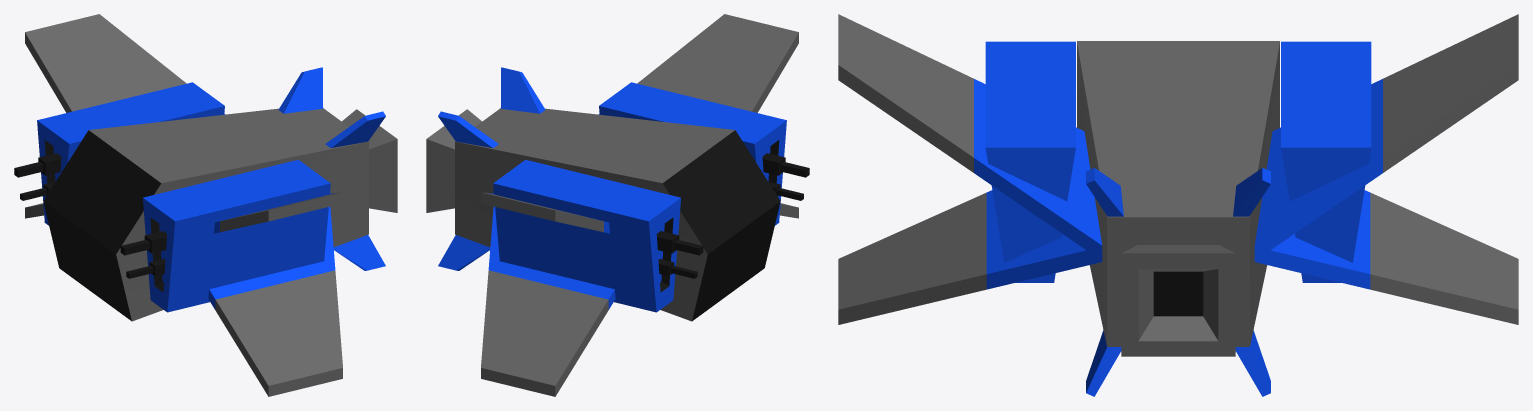
File: Devildog.FBX
The picture shows the model from 3 angles, left to right: view 1: azimuth 30°, elevation 25°; view 2: azimuth 150°, elevation 25°; view 3: azimuth 270°, elevation 25°; orthographic projection. The views are drawn at different scales.
Parts seen in each view (by area): view 1: 2; view 2: 2; view 3: 2.
Part boxes in pixels (<box>): 2: <box>14,14,397,396</box>; 2: <box>426,14,809,396</box>; 2: <box>838,14,1518,396</box>.
Bounding box in the file's own units: 49.85 × 28.87 × 68.38.
